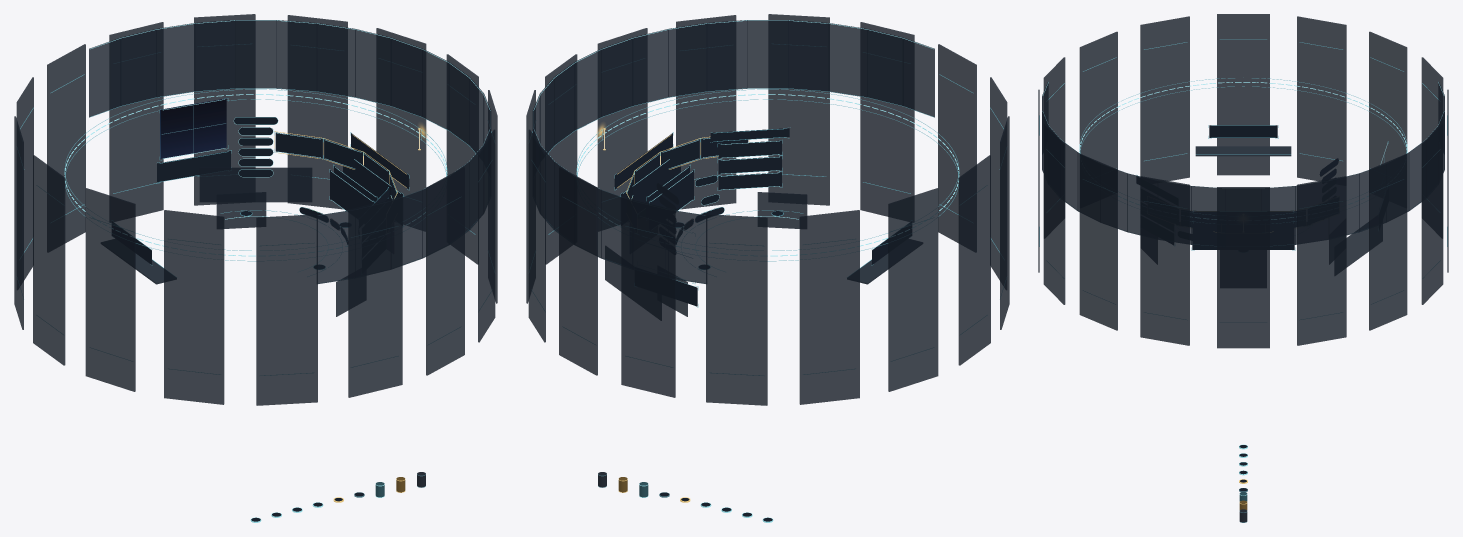
The model's file is world.glb.
3 views of the same model, side by side, from view 1: azimuth 30°, elevation 25°; view 2: azimuth 150°, elevation 25°; view 3: azimuth 270°, elevation 25° (orthographic). The views are drawn at different scales.
Visible parts, largest first — view 1: CocoonF, CocoonG, CocoonE, CocoonH, CocoonM, CocoonO, CocoonD, CocoonP, CocoonL, CocoonN, CocoonI, CocoonA (+35 smaller); view 2: CocoonL, CocoonK, CocoonM, CocoonD, CocoonE, CocoonJ, CocoonC, CocoonN, CocoonB, CocoonF, CocoonI, CocoonA (+36 smaller); view 3: CocoonA, CocoonB, CocoonP, CocoonH, CocoonJ, CocoonI, CocoonC, CocoonO, CocoonG, CocoonK, CocoonD, CocoonN (+22 smaller).
Part boxes in pixels (x1,y1,x2,y2): CocoonF: (256,214,317,405); CocoonG: (164,210,224,404); CocoonE: (348,196,402,397); CocoonH: (85,188,135,391); CocoonM: (109,22,163,221); CocoonO: (287,15,347,209); CocoonD: (426,167,464,375); CocoonP: (376,28,426,230); CocoonL: (47,44,85,251); CocoonN: (194,14,255,205); CocoonI: (33,155,65,365); CocoonA: (446,54,478,264); CocoonL: (706,214,767,405); CocoonK: (799,210,859,404); CocoonM: (621,196,675,397); CocoonD: (768,14,829,205); CocoonE: (860,22,914,221); CocoonJ: (888,188,938,391); CocoonC: (676,15,736,209); CocoonN: (559,167,597,375); CocoonB: (597,28,647,230); CocoonF: (938,44,976,251); CocoonI: (958,155,990,365); CocoonA: (545,54,577,264); CocoonA: (1217,187,1269,348); CocoonB: (1140,176,1189,345); CocoonP: (1297,176,1346,345); CocoonH: (1140,16,1189,180); CocoonJ: (1297,16,1346,180); CocoonI: (1217,14,1269,175); CocoonC: (1079,154,1117,330); CocoonO: (1369,154,1407,330); CocoonG: (1079,31,1117,169); CocoonK: (1369,31,1407,169); CocoonD: (1043,123,1065,304); CocoonN: (1421,123,1443,304).
Size of what is drawn, in the model's own units: 6.02 by 5.68 by 6.02.
Materials: 19 (4 with a texture image).
